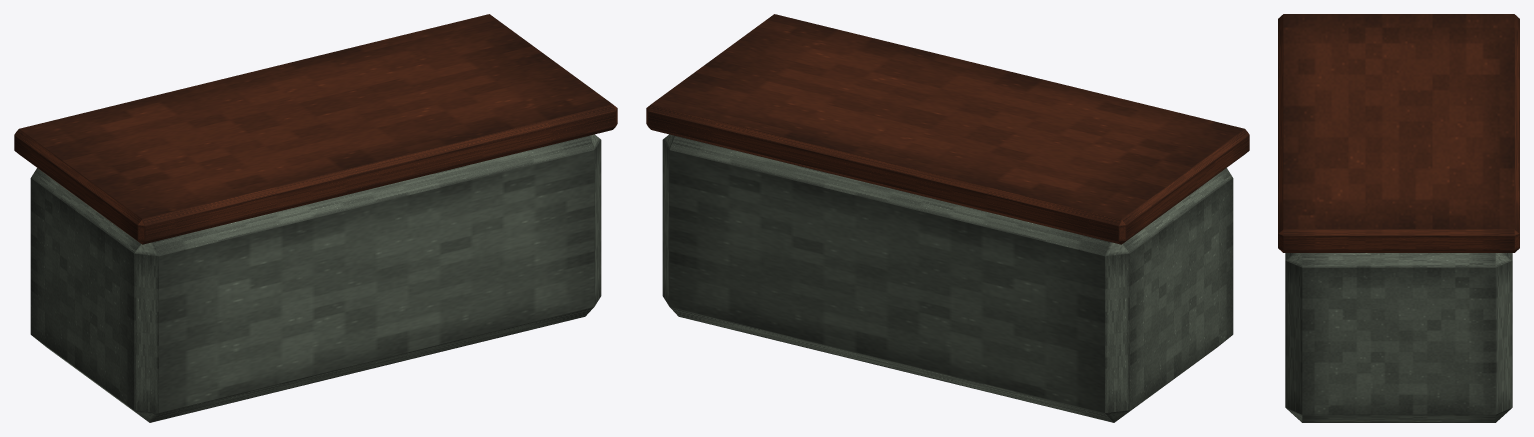
File: THStage_FindSupport_03.fbx
3 views of the same model, side by side, from view 1: azimuth 30°, elevation 25°; view 2: azimuth 150°, elevation 25°; view 3: azimuth 270°, elevation 25° (orthographic). The views are drawn at different scales.
Visible parts, largest first — view 1: THStage_FindSupport_03.009; view 2: THStage_FindSupport_03.009; view 3: THStage_FindSupport_03.009.
Part boxes in pixels (<box>): THStage_FindSupport_03.009: <box>14,14,617,422</box>; THStage_FindSupport_03.009: <box>646,14,1249,422</box>; THStage_FindSupport_03.009: <box>1278,14,1519,422</box>.
Size of the model in its own units: 0.548 by 0.235 by 0.255.
Materials: 1 (1 with a texture image).
